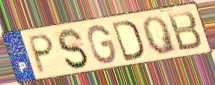B: (166, 9, 204, 53)
D: (110, 18, 146, 63)
G: (87, 24, 118, 65)
P: (27, 33, 55, 76)
Q: (141, 15, 180, 56)
S: (56, 27, 91, 71)
